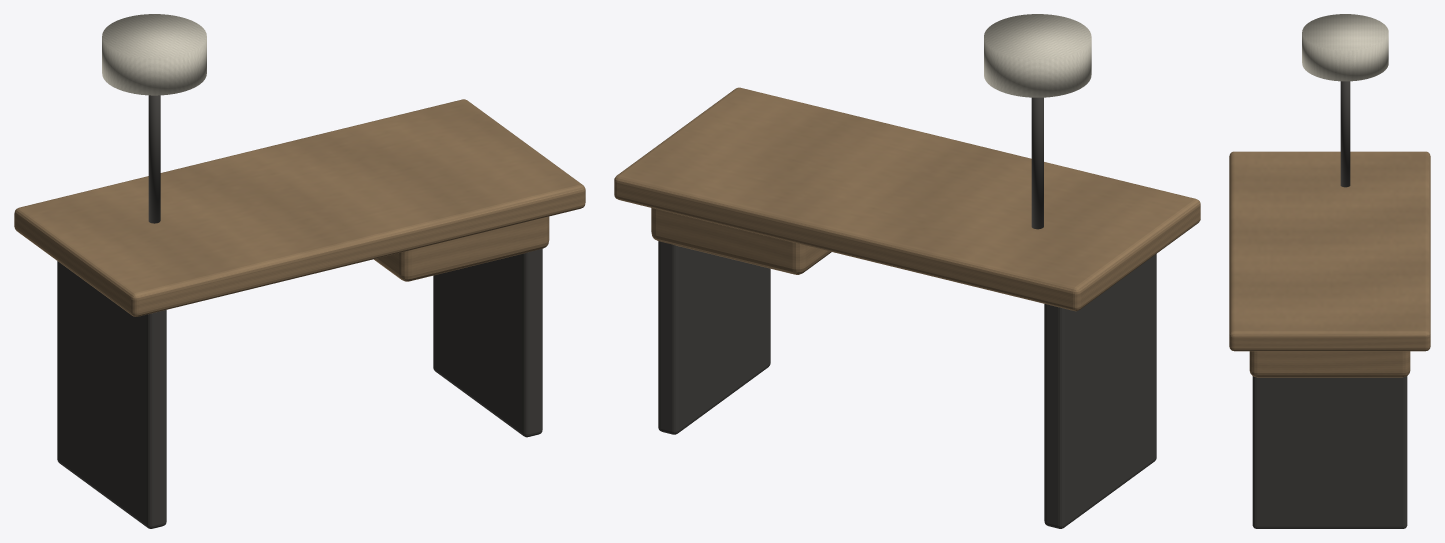
File: desk.glb
3 renders of one model, left to right at view 1: azimuth 30°, elevation 25°; view 2: azimuth 150°, elevation 25°; view 3: azimuth 270°, elevation 25°, orthographic. The views are drawn at different scales.
Parts seen in each view (by area): view 1: CANONICAL desk top, ACCENT trestle, ACCENT trestle.001, ACCENT lamp shade, CANONICAL drawer, ACCENT lamp stem; view 2: CANONICAL desk top, ACCENT trestle, ACCENT trestle.001, ACCENT lamp shade, CANONICAL drawer, ACCENT lamp stem; view 3: CANONICAL desk top, ACCENT trestle.001, ACCENT lamp shade, CANONICAL drawer, ACCENT lamp stem.
Boxes of the visible parts, bbox=[...] form: CANONICAL desk top: bbox=[14, 99, 585, 316]; ACCENT trestle: bbox=[57, 261, 166, 528]; ACCENT trestle.001: bbox=[433, 249, 542, 437]; ACCENT lamp shade: bbox=[102, 14, 206, 95]; CANONICAL drawer: bbox=[374, 216, 549, 281]; ACCENT lamp stem: bbox=[148, 95, 160, 223]; CANONICAL desk top: bbox=[614, 87, 1200, 311]; ACCENT trestle: bbox=[1044, 254, 1156, 528]; ACCENT trestle.001: bbox=[658, 241, 770, 434]; ACCENT lamp shade: bbox=[984, 14, 1091, 97]; CANONICAL drawer: bbox=[651, 208, 831, 274]; ACCENT lamp stem: bbox=[1031, 97, 1043, 229]; CANONICAL desk top: bbox=[1229, 151, 1430, 351]; ACCENT trestle.001: bbox=[1252, 376, 1407, 528]; ACCENT lamp shade: bbox=[1302, 14, 1388, 81]; CANONICAL drawer: bbox=[1249, 351, 1410, 377]; ACCENT lamp stem: bbox=[1340, 81, 1350, 187].
Bounding box in the file's own units: 1.4 × 1.3 × 0.65.
3 materials, 2 textured.
